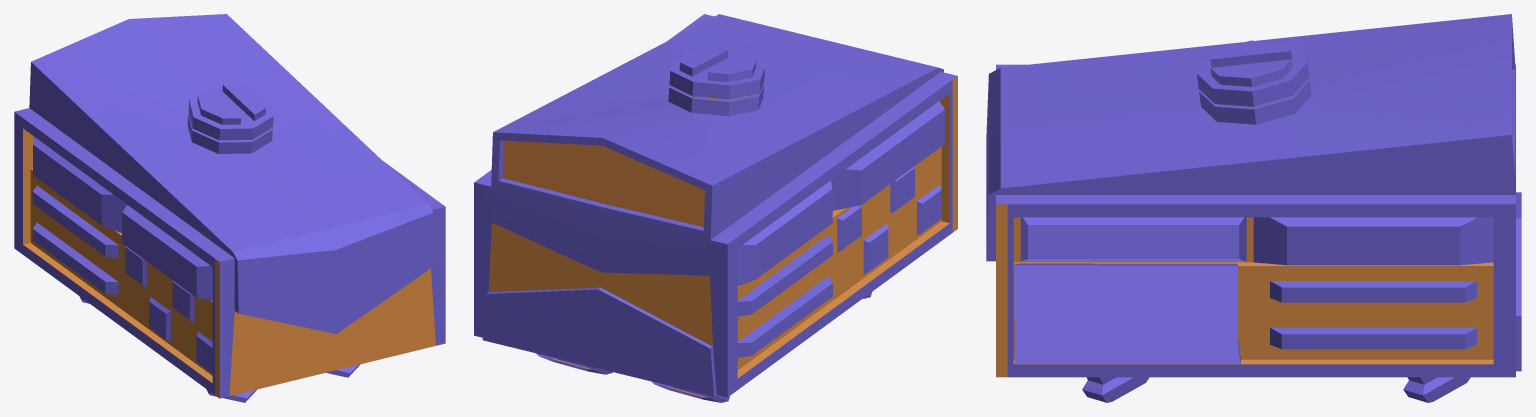
File: Train_BackCar.fbx
The picture shows the model from 3 angles, left to right: view 1: azimuth 30°, elevation 25°; view 2: azimuth 150°, elevation 25°; view 3: azimuth 270°, elevation 25°; orthographic projection. The views are drawn at different scales.
Parts seen in each view (by area): view 1: Train_BackCar; view 2: Train_BackCar; view 3: Train_BackCar.
Boxes of the visible parts, box(x1,y1,x2,y2) form: Train_BackCar: box(14, 14, 445, 402); Train_BackCar: box(474, 14, 957, 402); Train_BackCar: box(986, 14, 1521, 402).
Size of the model in its own units: 2065 by 2087 by 3220.
